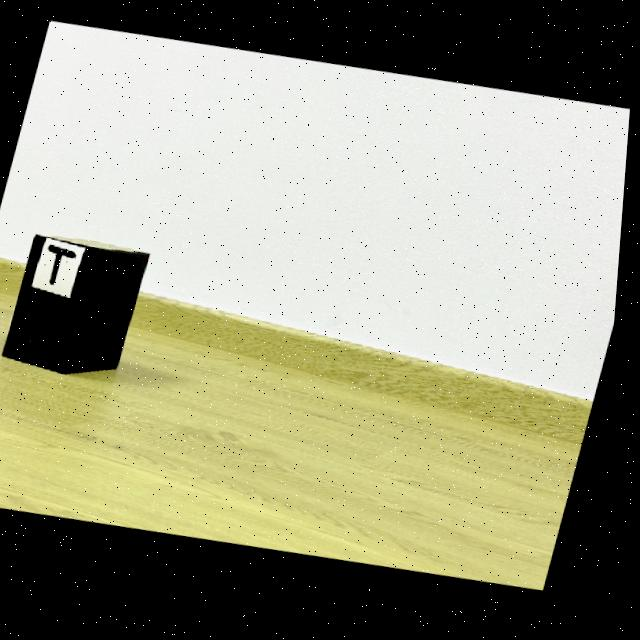T: (52, 246, 80, 287)
